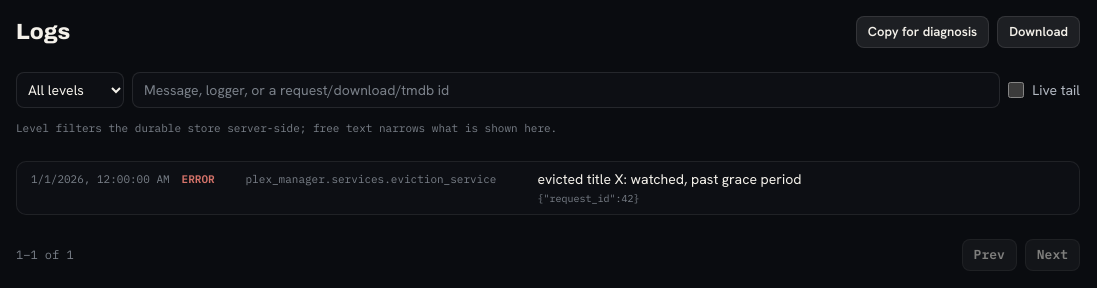
Scenario: Logs › uses the shared header and keeps all three filters in one accessible compact row
Expected: the header "Logs" is shown, [16,16,1080,48]
Expected: the buttons read "Copy for diagnosis", "Download", in this order, [856,16,989,48]; [997,16,1080,48]
Click the checkbox labelled "Live tail". click: (1016, 90)
box: [1008,82,1024,98]
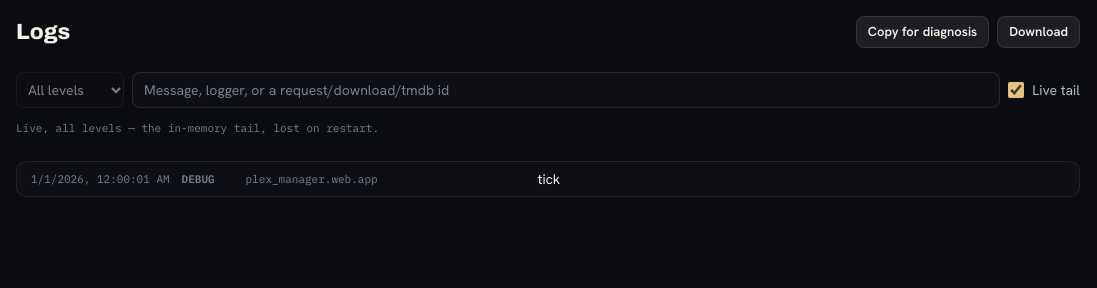
Expected: the field named "Search" is enabled, [132,72,1000,108]
Expected: the dropdown named "Level" is disabled, [16,72,124,108]
